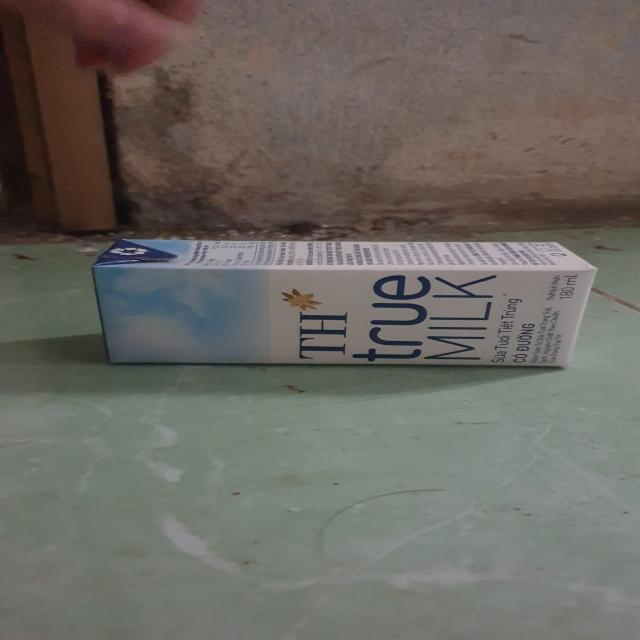TH: (84, 237, 598, 370)
